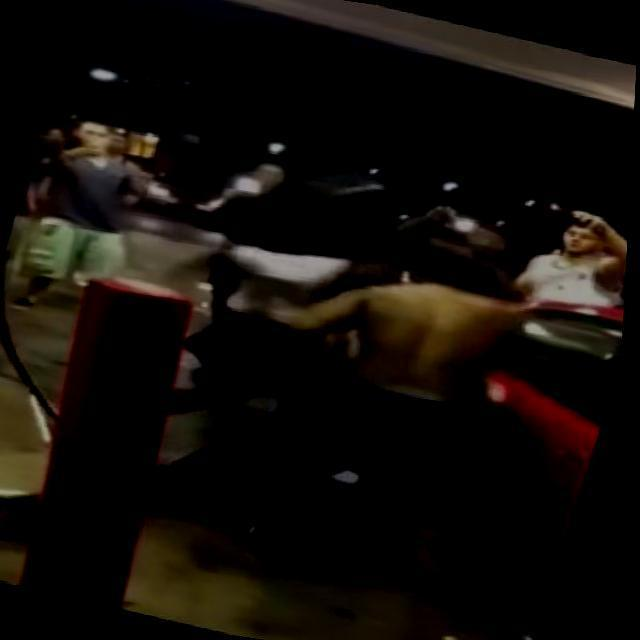fight: (137, 200, 565, 576)
